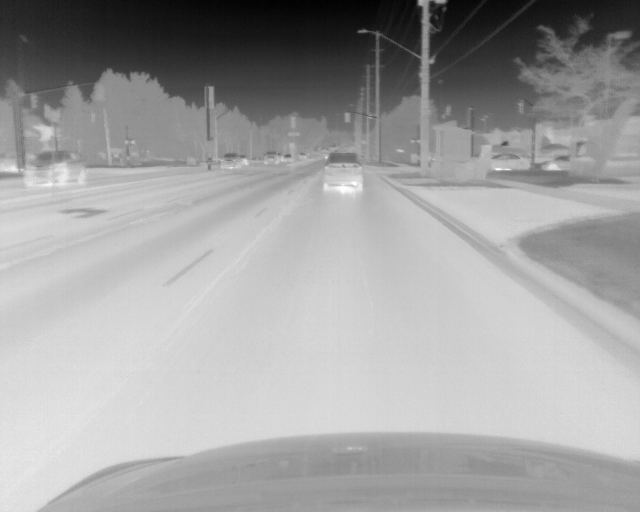car: (24, 150, 84, 186), (323, 152, 364, 192), (492, 153, 529, 169), (221, 154, 242, 168), (265, 151, 279, 164)
